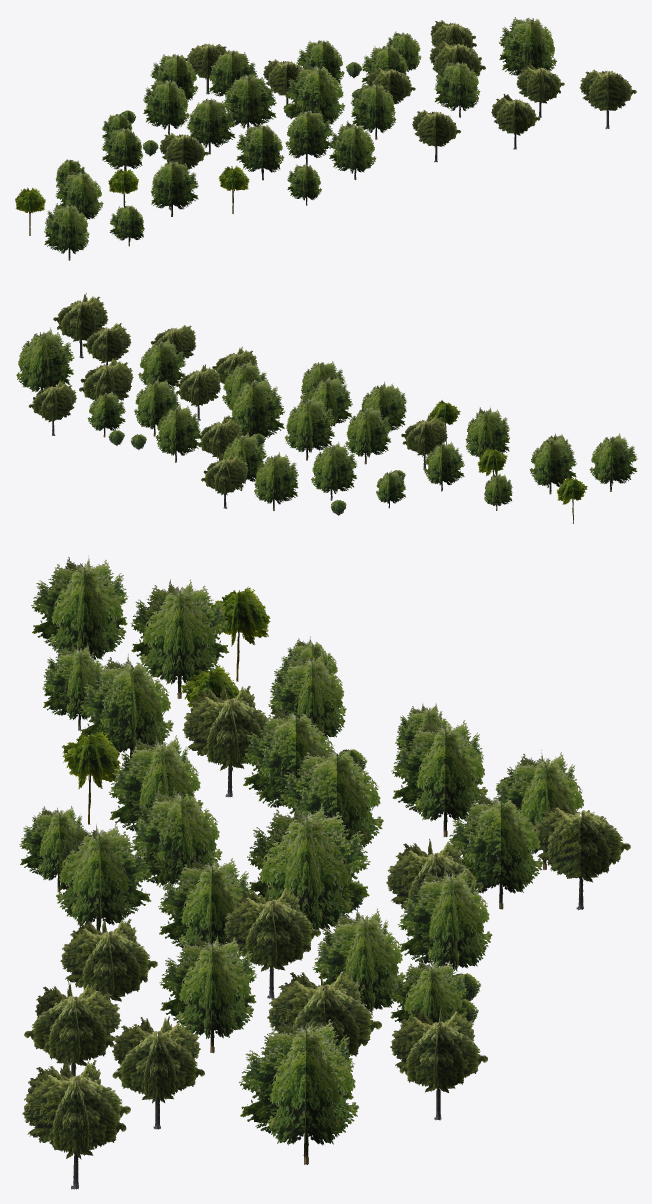
Rendered from ParkTreesChunk5.fbx.
3 renders of one model, top to bottom at view 1: azimuth 30°, elevation 25°; view 2: azimuth 150°, elevation 25°; view 3: azimuth 270°, elevation 25°, orthographic. The views are drawn at different scales.
Parts seen in each view (by area): view 1: TreesPack.008; view 2: TreesPack.008; view 3: TreesPack.008.
Part boxes in pixels (x1,y1,x2,y2): TreesPack.008: [15, 17, 636, 260]; TreesPack.008: [16, 293, 637, 523]; TreesPack.008: [19, 555, 630, 1189].
Bounding box in the file's own units: 16345 × 2275 × 7493.
